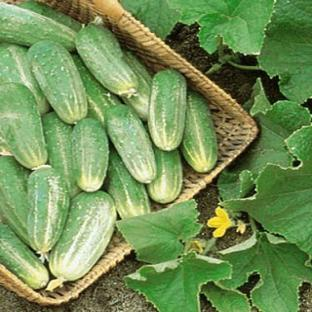Cucumber: (50, 191, 116, 283), (29, 41, 87, 123), (77, 24, 138, 97), (0, 83, 47, 169), (106, 105, 155, 183), (28, 167, 69, 259), (0, 3, 77, 50), (0, 43, 49, 114), (73, 55, 120, 124), (0, 223, 48, 288), (106, 149, 151, 218), (149, 70, 187, 151), (43, 113, 79, 197), (181, 91, 217, 172), (73, 119, 109, 192), (0, 156, 29, 243), (123, 51, 152, 120), (19, 0, 81, 32), (148, 148, 182, 203)
